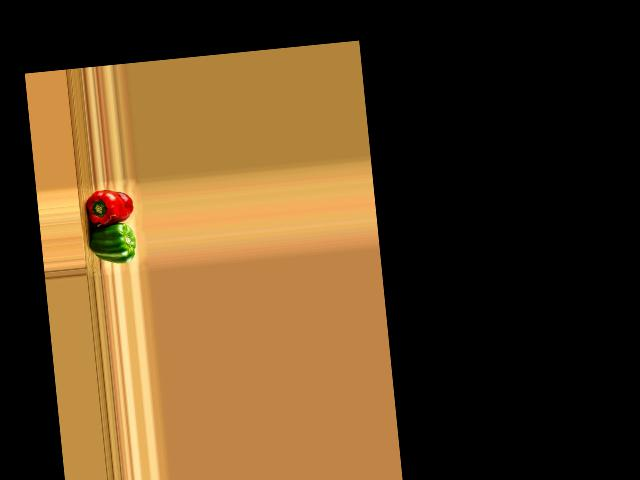bell_pepper: (85, 186, 135, 228)
